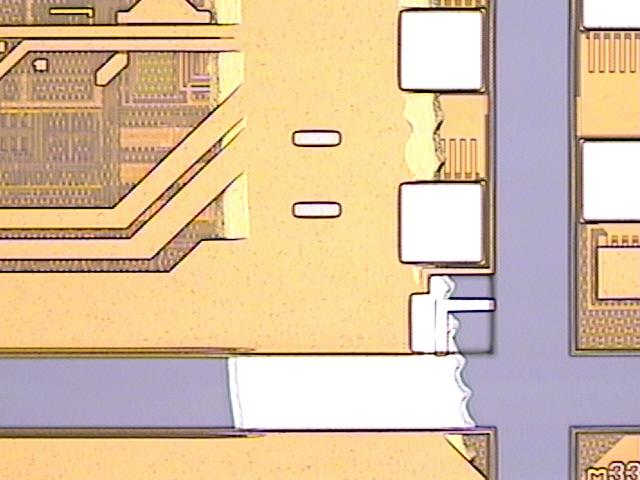BLOCK ETCH: (206, 1, 480, 465)
